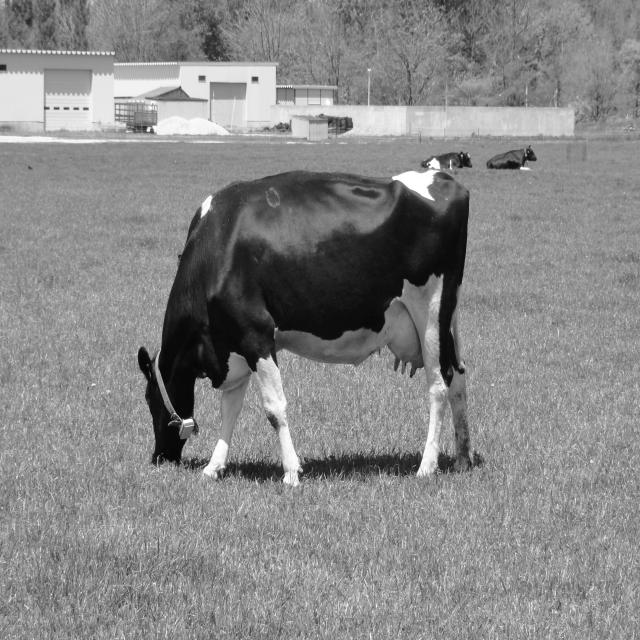cow: (138, 172, 472, 485)
